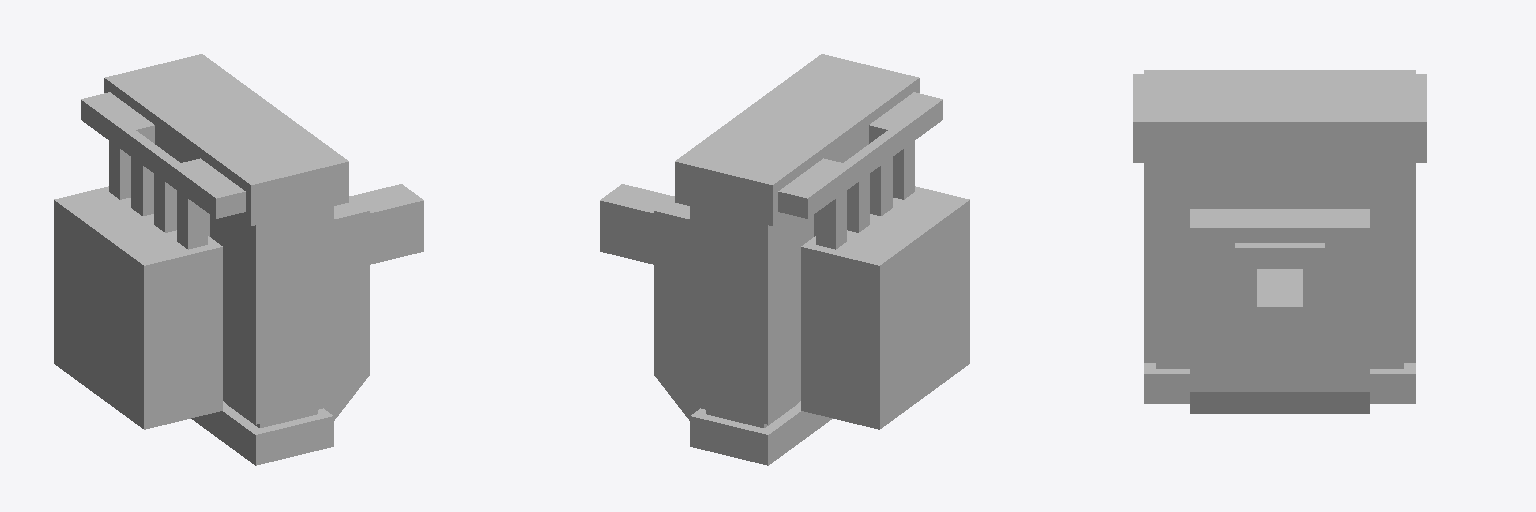
The model's file is hydraulic2.obj.
3 views of the same model, side by side, from view 1: azimuth 30°, elevation 25°; view 2: azimuth 150°, elevation 25°; view 3: azimuth 270°, elevation 25° (orthographic).
Parts seen in each view (by area): view 1: axle, piston; view 2: axle, piston; view 3: axle, piston.
Boxes of the visible parts, x1,y1,x2,y2 form: axle: [54, 54, 348, 429]; piston: [191, 184, 423, 465]; axle: [675, 54, 969, 429]; piston: [600, 184, 832, 465]; axle: [1133, 70, 1426, 362]; piston: [1144, 209, 1415, 413].
Bounding box in the file's own units: 0.511 × 0.4465 × 0.4146.